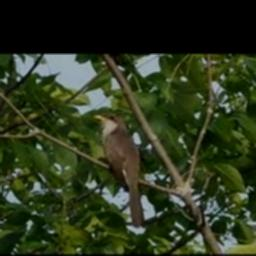Cuckoo: (92, 114, 145, 227)
